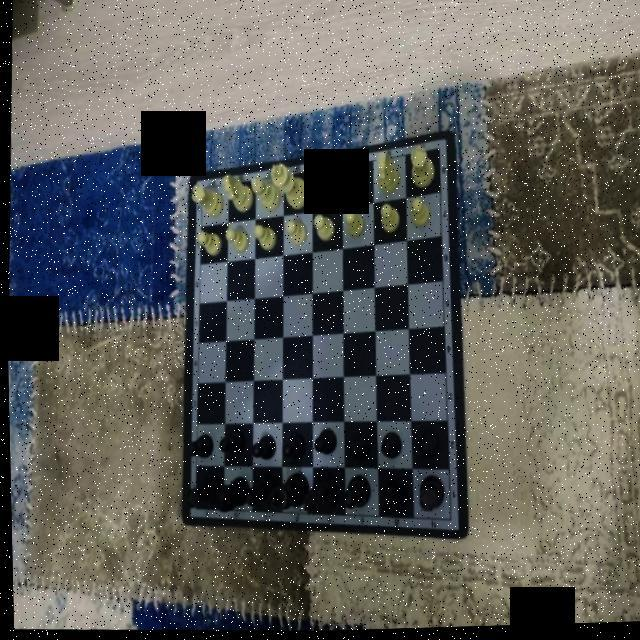chess-table-corners: (434, 506, 458, 536), (428, 140, 446, 164), (185, 500, 199, 518)
